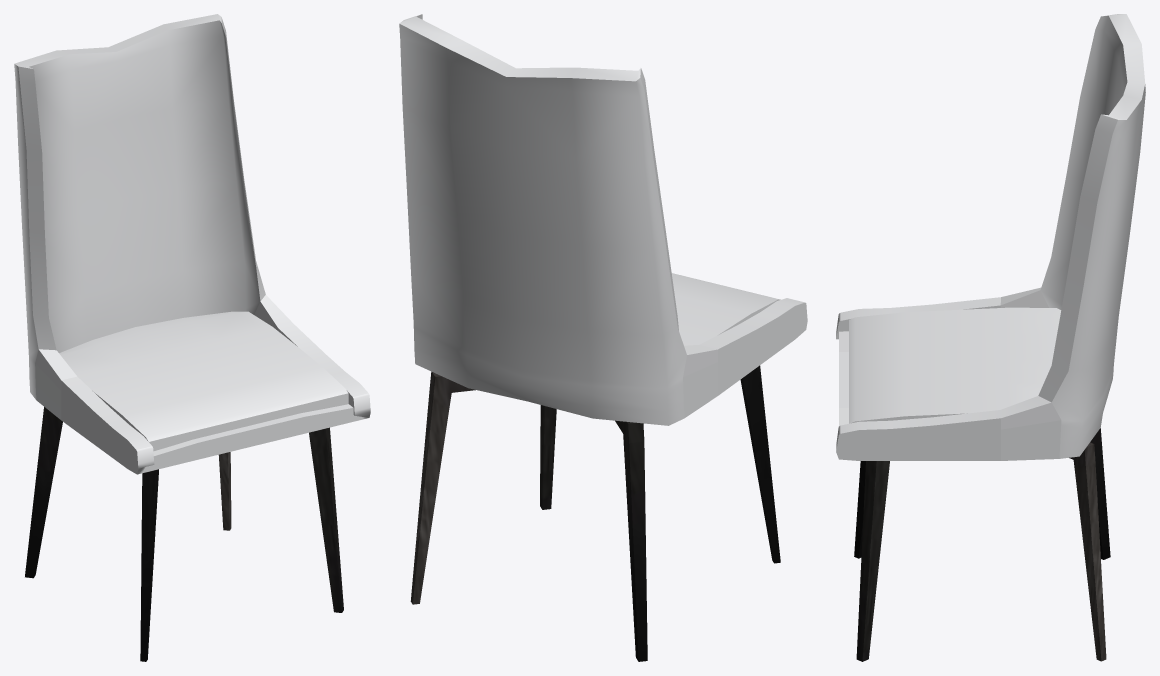
Rendered from chaise.FBX.
The picture shows the model from 3 angles, left to right: view 1: azimuth 30°, elevation 25°; view 2: azimuth 150°, elevation 25°; view 3: azimuth 270°, elevation 25°; orthographic projection. The views are drawn at different scales.
Visible parts, largest first — view 1: Plane001, Box001, Box002; view 2: Plane001, Box002, Box001; view 3: Plane001, Box001, Box002.
Part boxes in pixels (x1=…): Plane001: x1=14, y1=14, x2=370, y2=474; Box001: x1=59, y1=311, x2=348, y2=451; Box002: x1=25, y1=407, x2=343, y2=661; Plane001: x1=399, y1=14, x2=807, y2=425; Box002: x1=410, y1=365, x2=780, y2=661; Box001: x1=671, y1=273, x2=780, y2=345; Plane001: x1=836, y1=14, x2=1145, y2=460; Box001: x1=849, y1=307, x2=1061, y2=423; Box002: x1=854, y1=428, x2=1110, y2=661.
Bounding box in the file's own units: 38.15 × 79.59 × 41.22.
